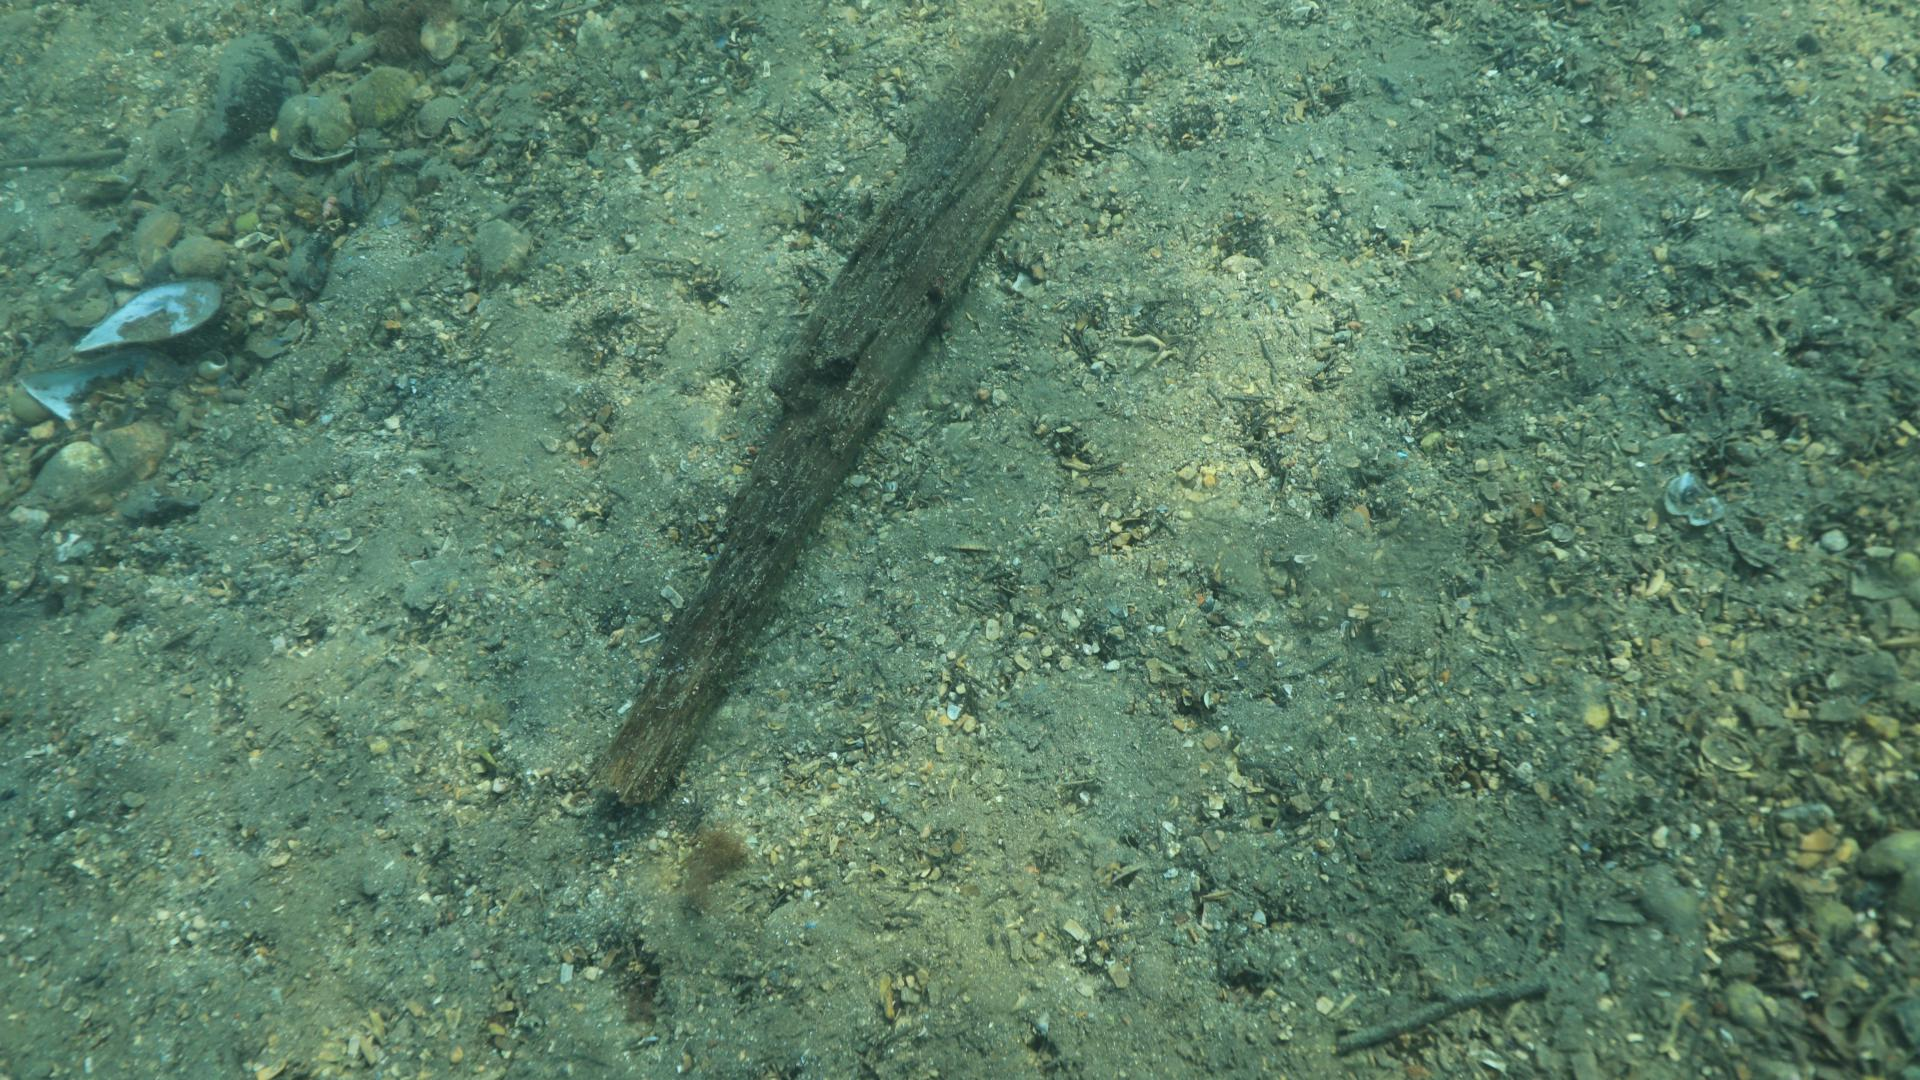wood: (575, 9, 1096, 804)
